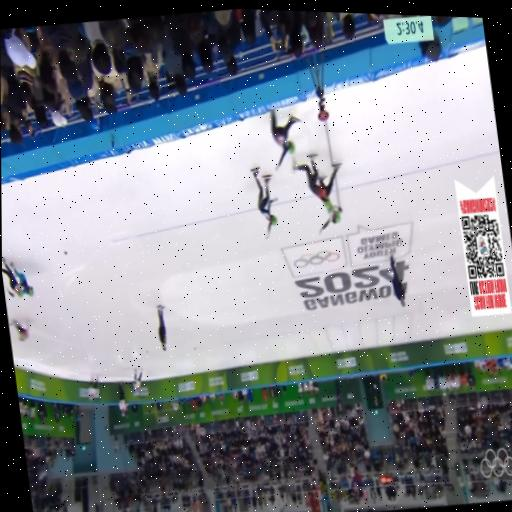Skater: (251, 166, 277, 237), (270, 110, 300, 169), (320, 163, 341, 231), (2, 258, 24, 296), (8, 313, 35, 343), (11, 262, 34, 295)
